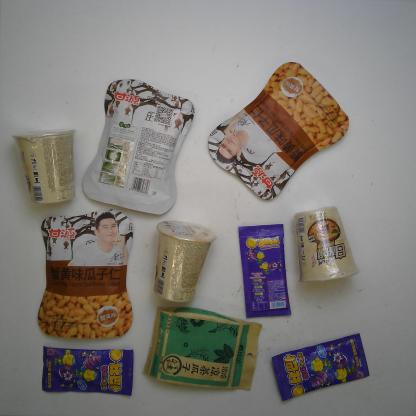Candy: (269, 332, 372, 403), (236, 222, 292, 321), (41, 343, 137, 398)
Dried Food: (140, 304, 264, 393)
Dried Fruit: (206, 59, 351, 203), (81, 76, 196, 216), (36, 208, 134, 341)
Instant Noodles: (150, 219, 218, 305), (10, 127, 78, 208), (292, 204, 360, 284)
